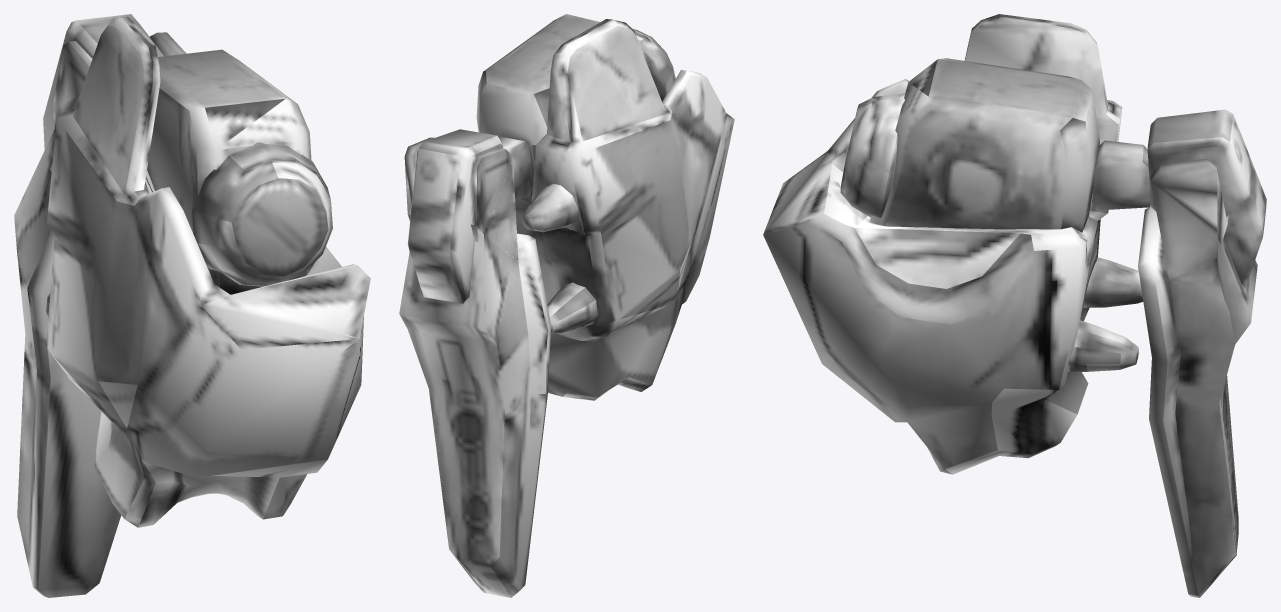
Rendered from r_thigh.glb.
3 views of the same model, side by side, from view 1: azimuth 30°, elevation 25°; view 2: azimuth 150°, elevation 25°; view 3: azimuth 270°, elevation 25° (orthographic). The views are drawn at different scales.
Visible parts, largest first — view 1: r_thigh; view 2: r_thigh; view 3: r_thigh.
Part boxes in pixels (left/top/right/bottom): r_thigh: left=14, top=14, right=370, bottom=597; r_thigh: left=399, top=14, right=734, bottom=597; r_thigh: left=763, top=14, right=1266, bottom=597.
Size of the model in its own units: 1.33 by 3.39 by 2.74.
Materials: 3 (3 with a texture image).
